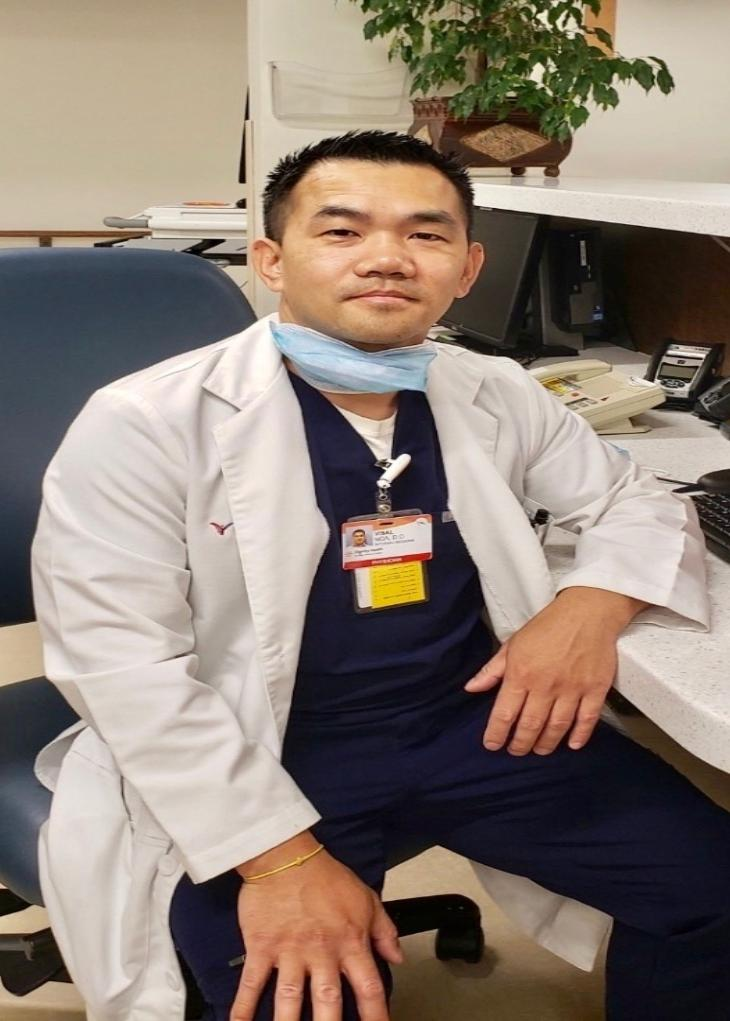mask_weared_incorrect: (251, 130, 480, 366)
